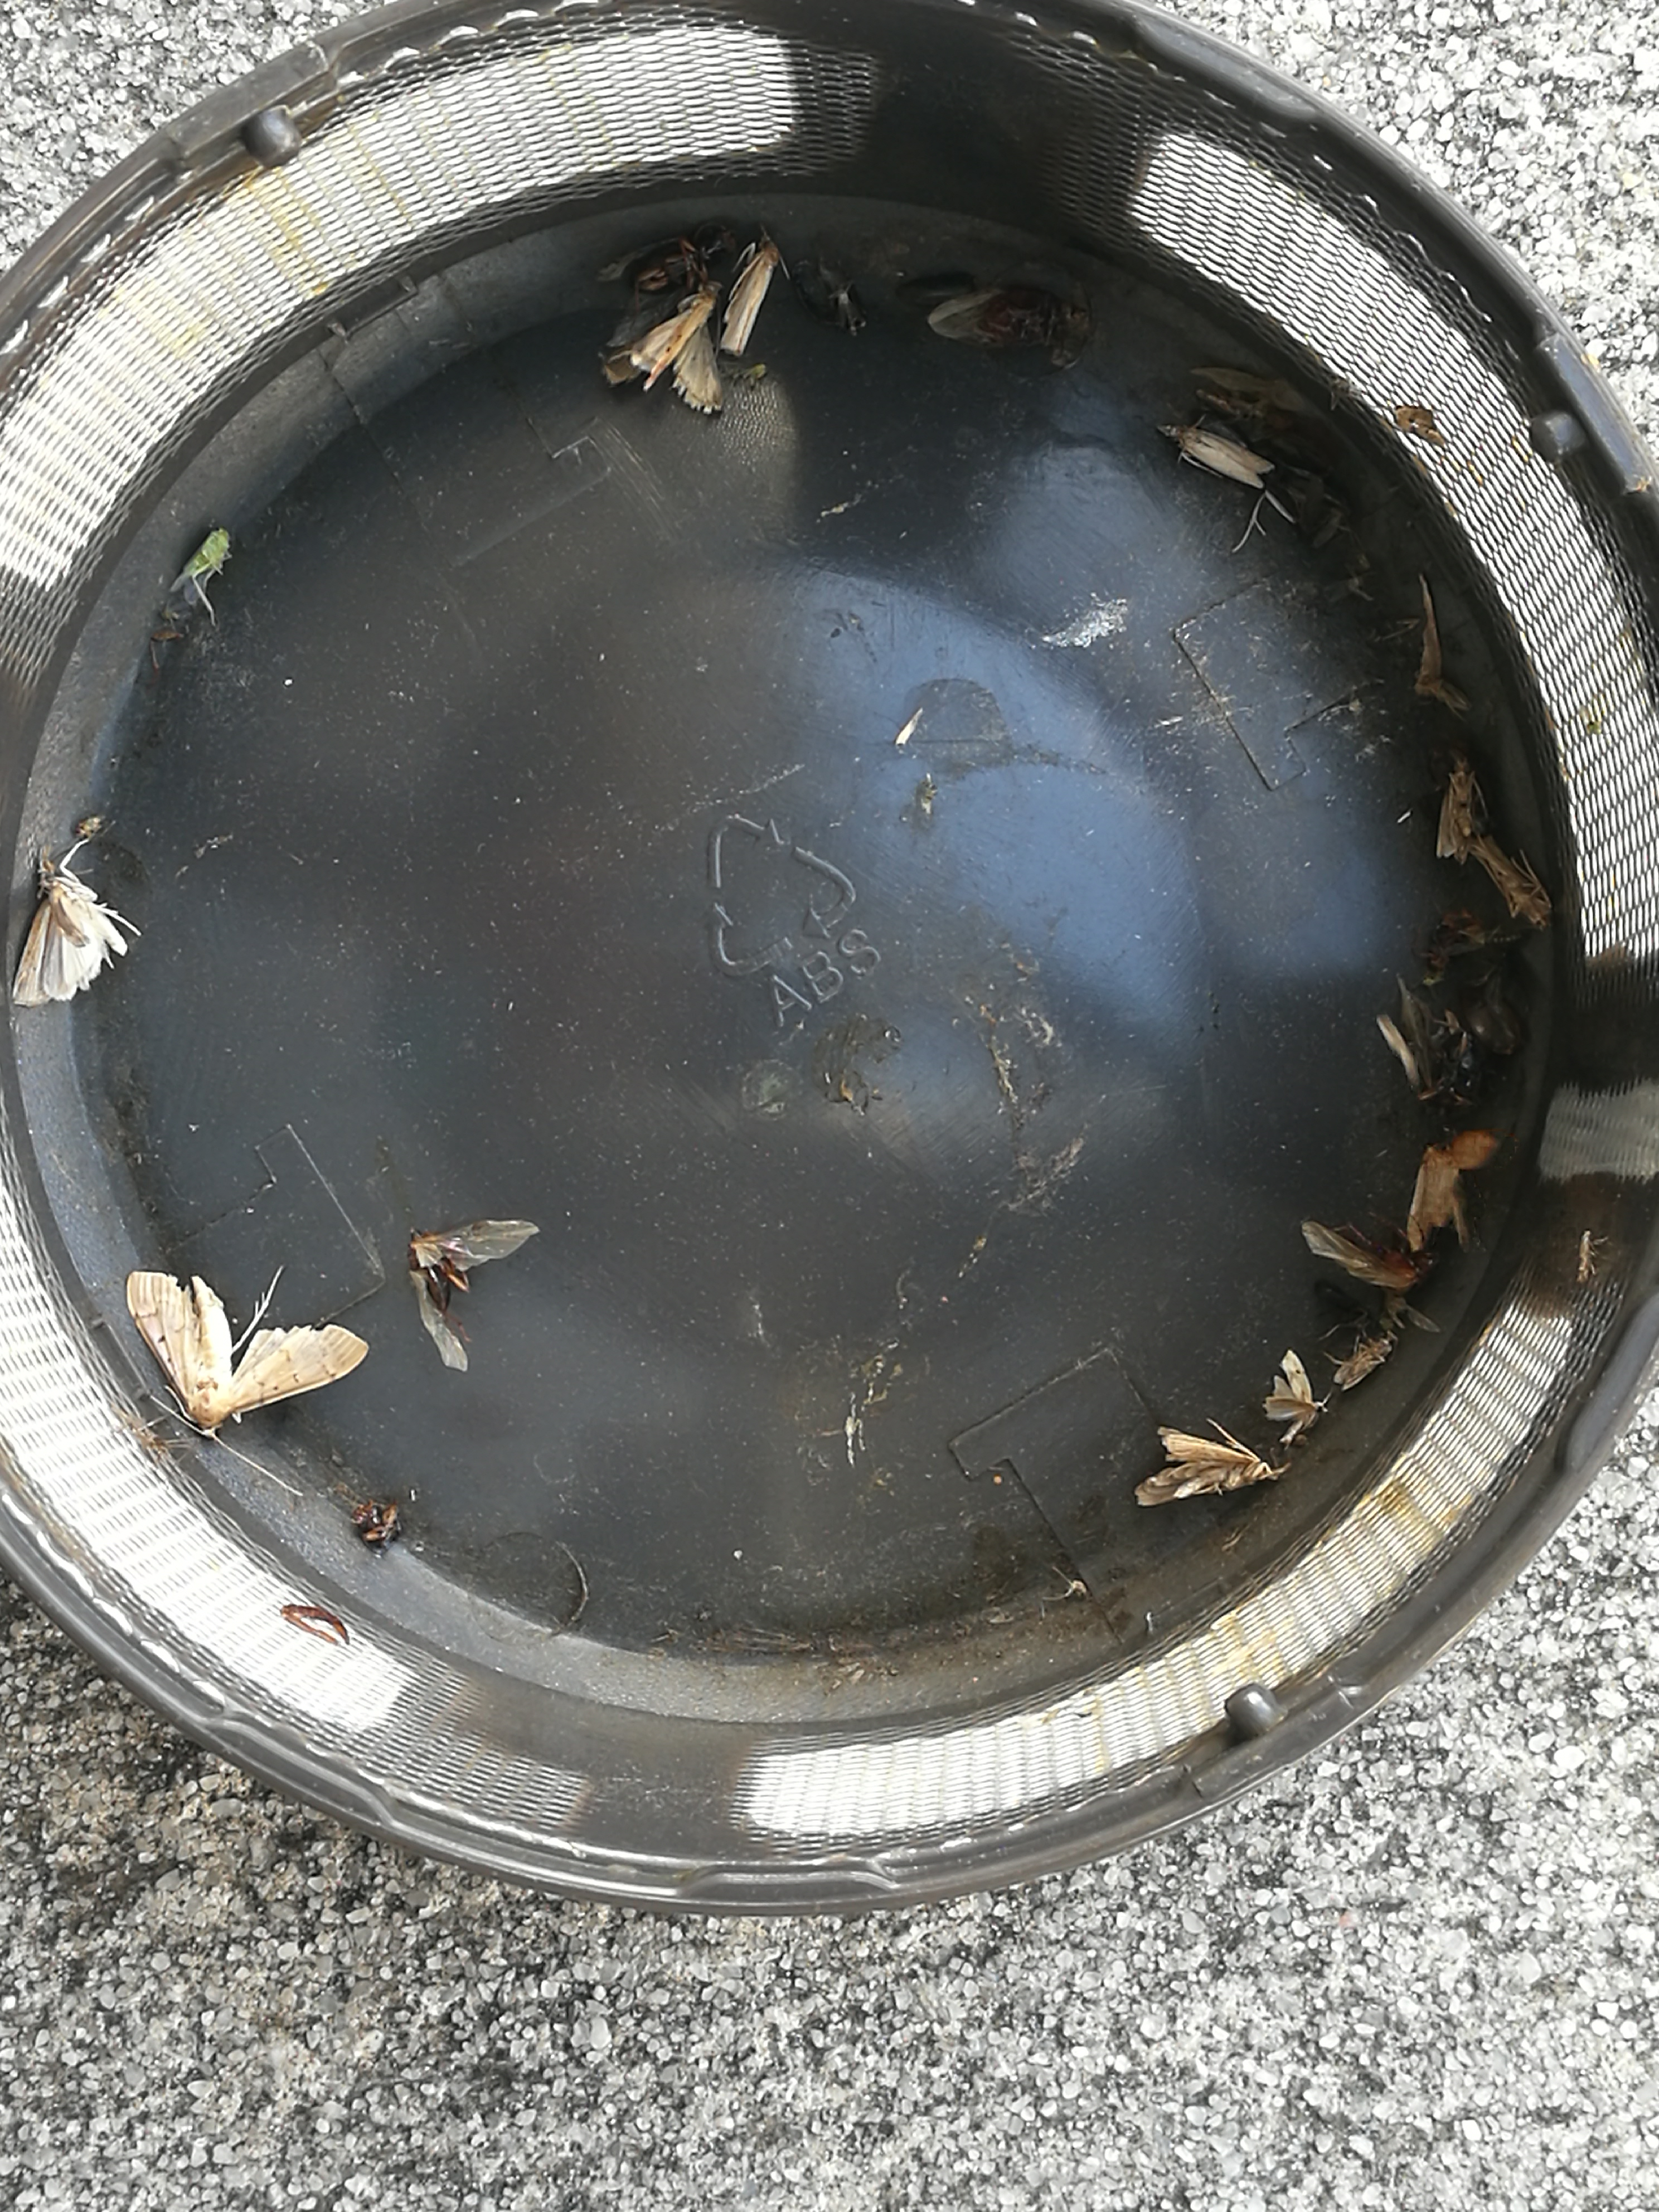beetle: (979, 289, 1087, 345)
mosquito: (1159, 423, 1277, 489), (1473, 834, 1549, 932), (720, 235, 779, 355), (1436, 758, 1474, 862), (1333, 1331, 1398, 1388)
moth: (125, 1268, 368, 1435), (12, 862, 127, 1008), (603, 284, 723, 415), (1406, 1132, 1497, 1252), (1134, 1428, 1274, 1505), (1262, 1348, 1328, 1442)
